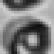correct: (1, 22, 54, 54)
